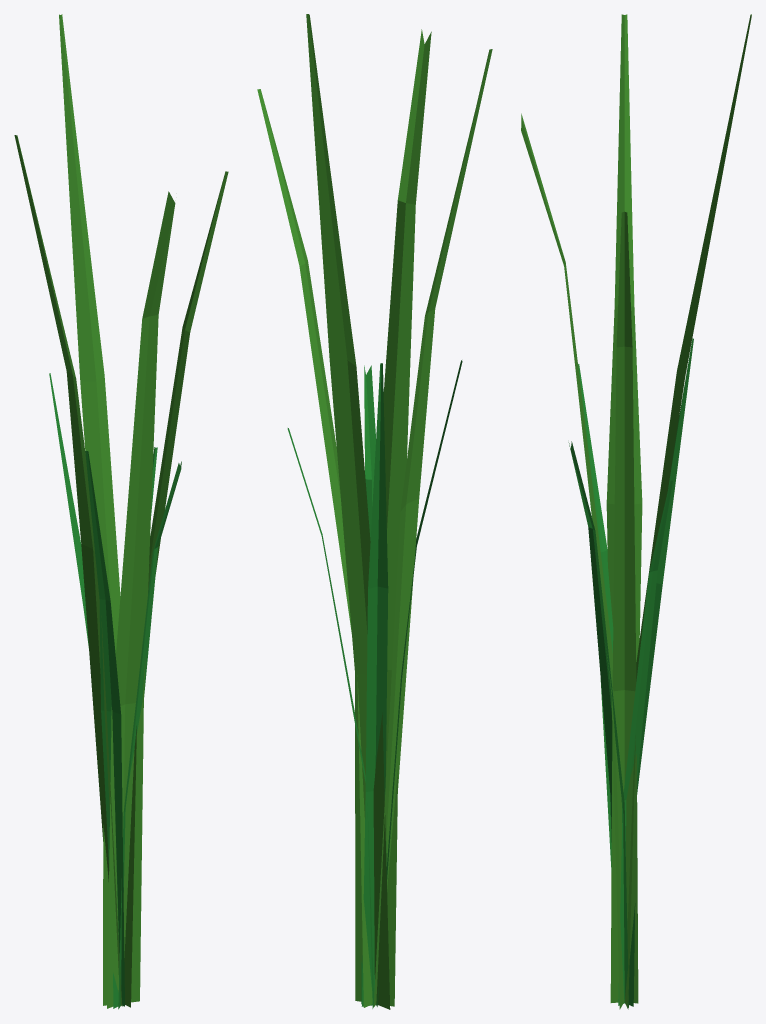
Rendered from zole_ilga.glb.
The picture shows the model from 3 angles, left to right: view 1: azimuth 30°, elevation 25°; view 2: azimuth 150°, elevation 25°; view 3: azimuth 270°, elevation 25°; orthographic projection. The views are drawn at different scales.
Parts seen in each view (by area): view 1: Zole.001; view 2: Zole.001; view 3: Zole.001.
Part boxes in pixels (x1=…): Zole.001: x1=14, y1=14, x2=228, y2=1009; Zole.001: x1=257, y1=14, x2=492, y2=1009; Zole.001: x1=521, y1=14, x2=751, y2=1009.
Size of the model in its own units: 0.1799 by 0.7692 by 0.1628.
